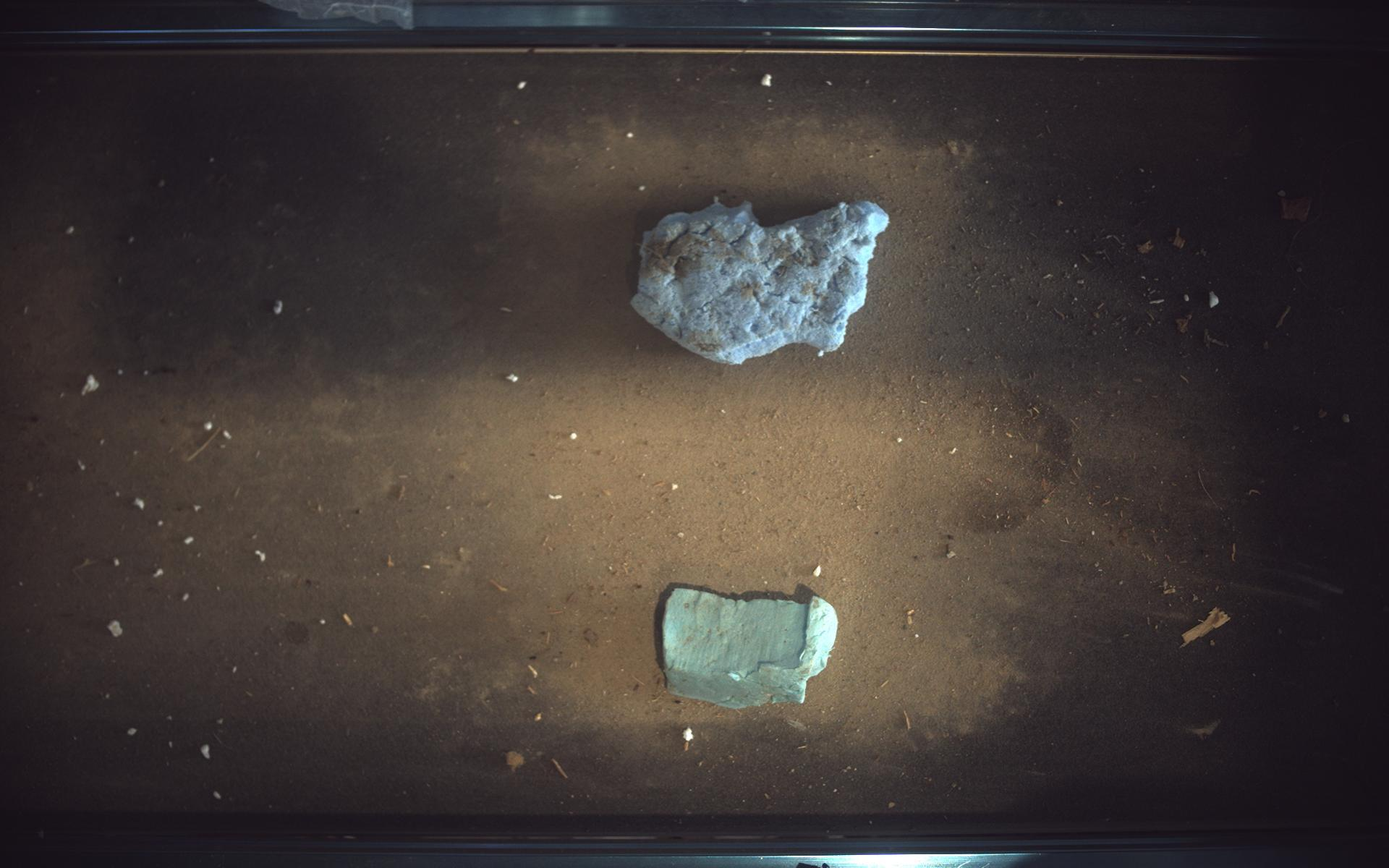foam: (632, 200, 890, 364), (663, 589, 839, 710)
